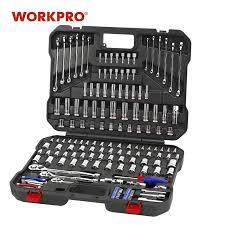wrench: (27, 162, 100, 177), (38, 170, 94, 181)
